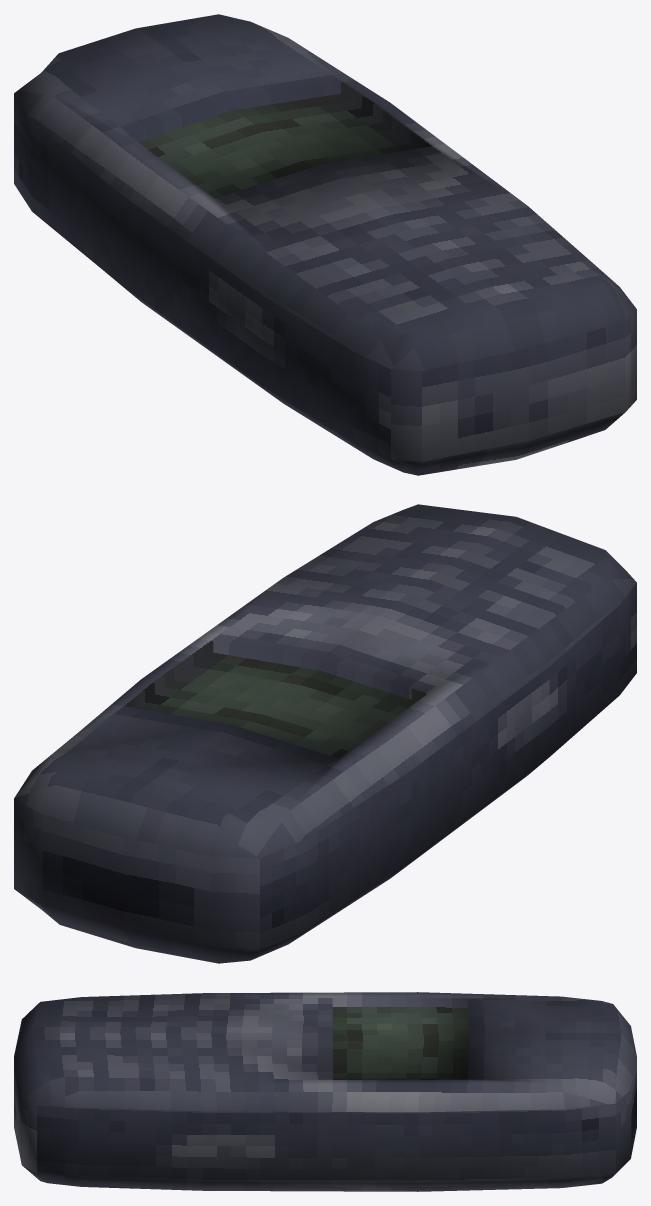
The model's file is cell_phone_2.glb.
3 renders of one model, top to bottom at view 1: azimuth 30°, elevation 25°; view 2: azimuth 150°, elevation 25°; view 3: azimuth 270°, elevation 25°, orthographic. The views are drawn at different scales.
Visible parts, largest first — view 1: cell_phone_2; view 2: cell_phone_2; view 3: cell_phone_2.
Boxes of the visible parts, x1,y1,x2,y2 form: cell_phone_2: (14, 14, 636, 475); cell_phone_2: (14, 504, 636, 963); cell_phone_2: (14, 992, 636, 1191).
Size of the model in its own units: 0.0877 by 0.0437 by 0.2106.
1 material, 1 textured.
